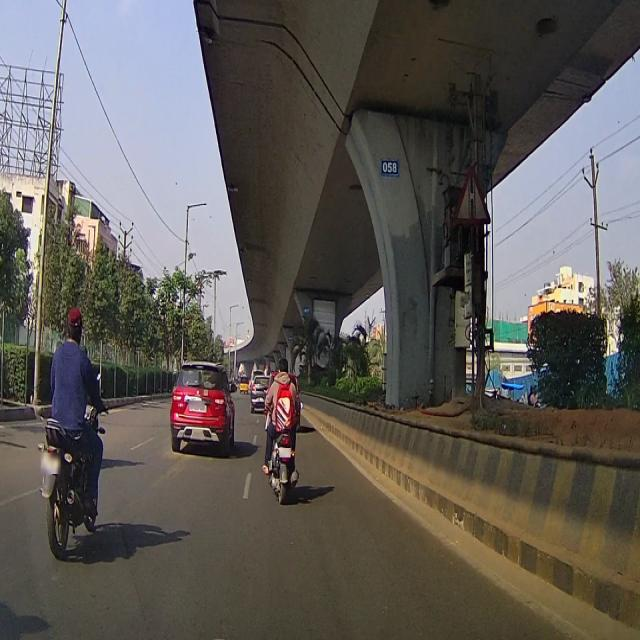gap-in-median: (458, 162, 488, 222)
